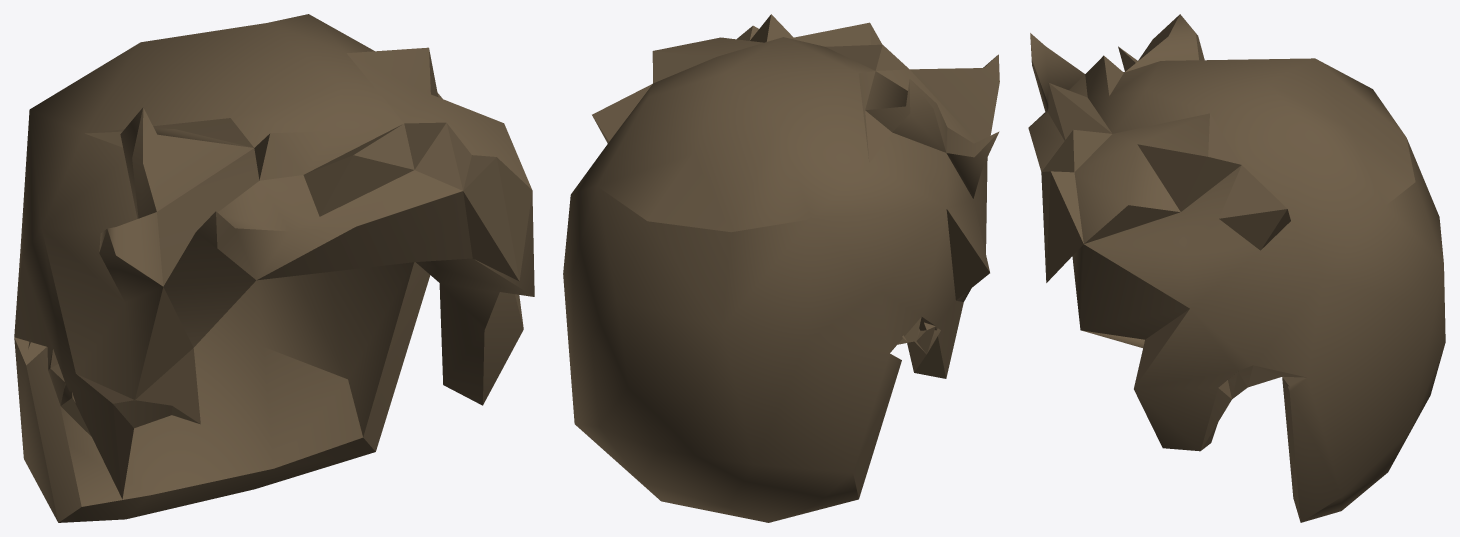
Rendered from AdnansHair.fbx.
3 views of the same model, side by side, from view 1: azimuth 30°, elevation 25°; view 2: azimuth 150°, elevation 25°; view 3: azimuth 270°, elevation 25° (orthographic). The views are drawn at different scales.
Visible parts, largest first — view 1: Adnan; view 2: Adnan; view 3: Adnan.
Boxes of the visible parts, box(x1,y1,x2,y2) form: Adnan: box(14, 14, 534, 522); Adnan: box(563, 14, 999, 522); Adnan: box(1028, 14, 1445, 522).
Bounding box in the file's own units: 162 × 174 × 158.
